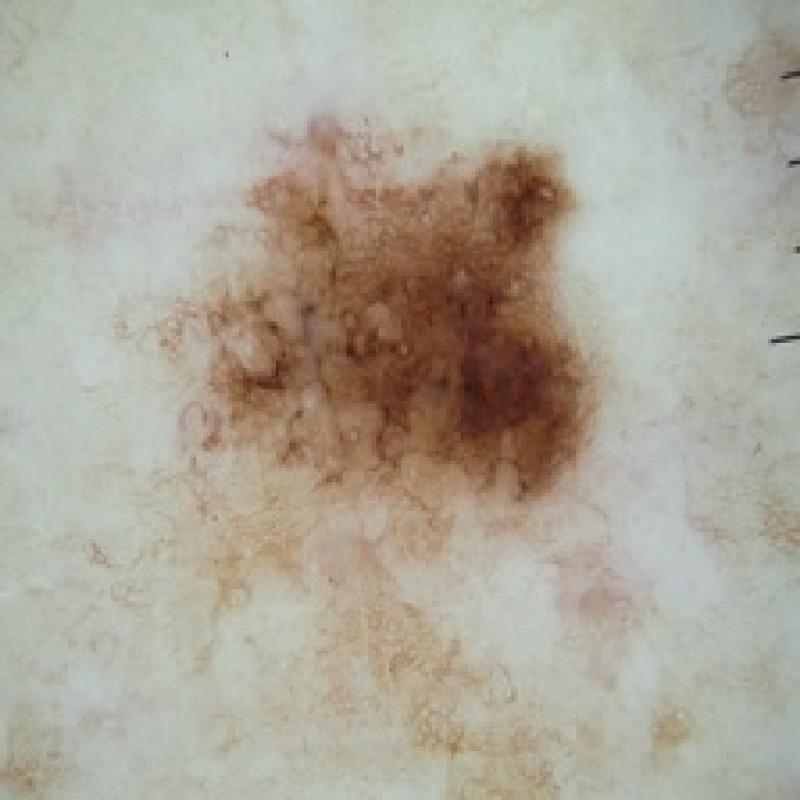malignant: (119, 100, 638, 580)
